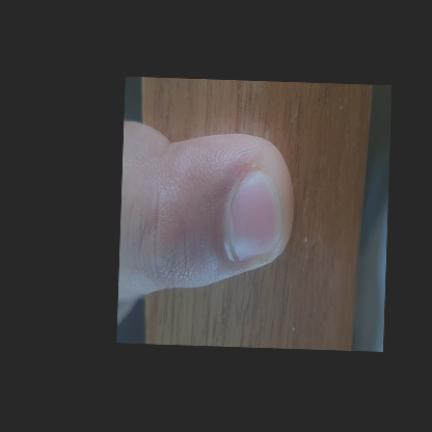Nail: (229, 169, 282, 260)
